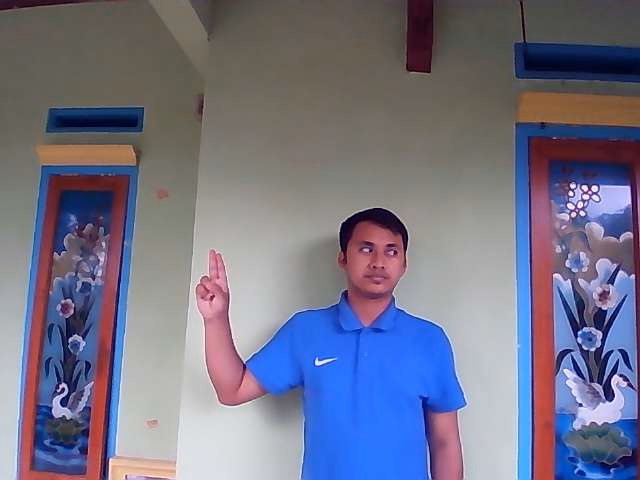U: (195, 249, 231, 319)
